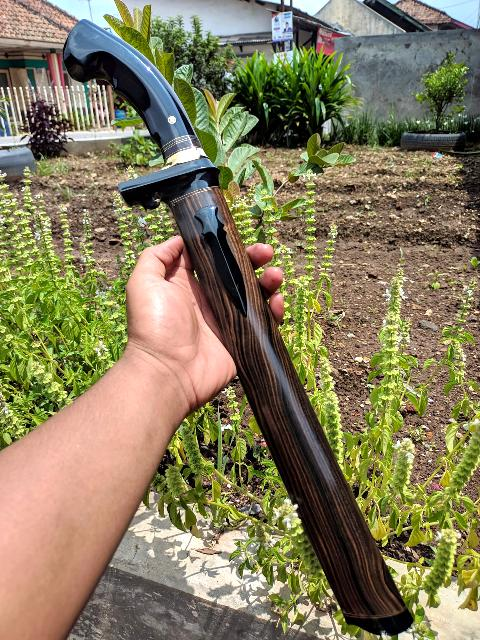long knife: (62, 18, 408, 620)
